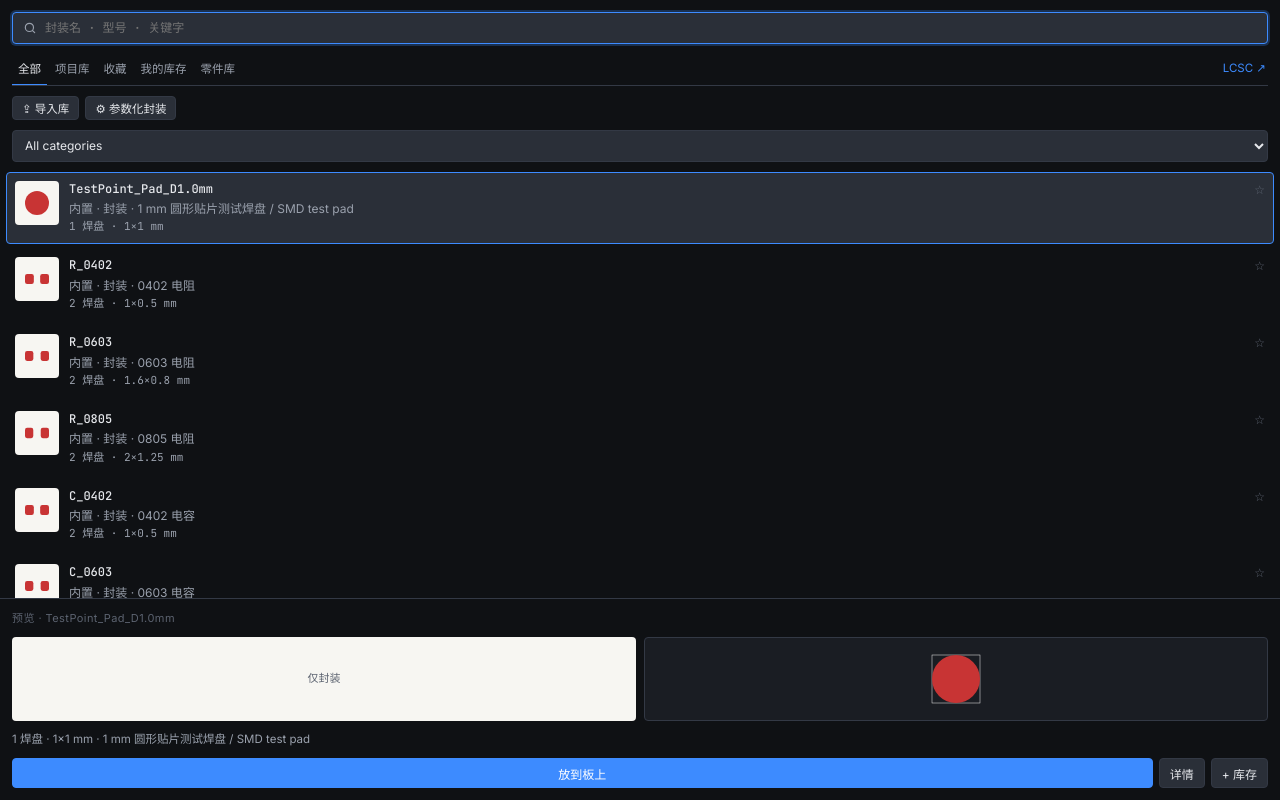
Test: pcb keeps categories in a collapsed picker and updates the part list on selection
Select "Capacitors" in the dropdown named "All categories". click: (640, 146)
box: [12,130,1268,162]
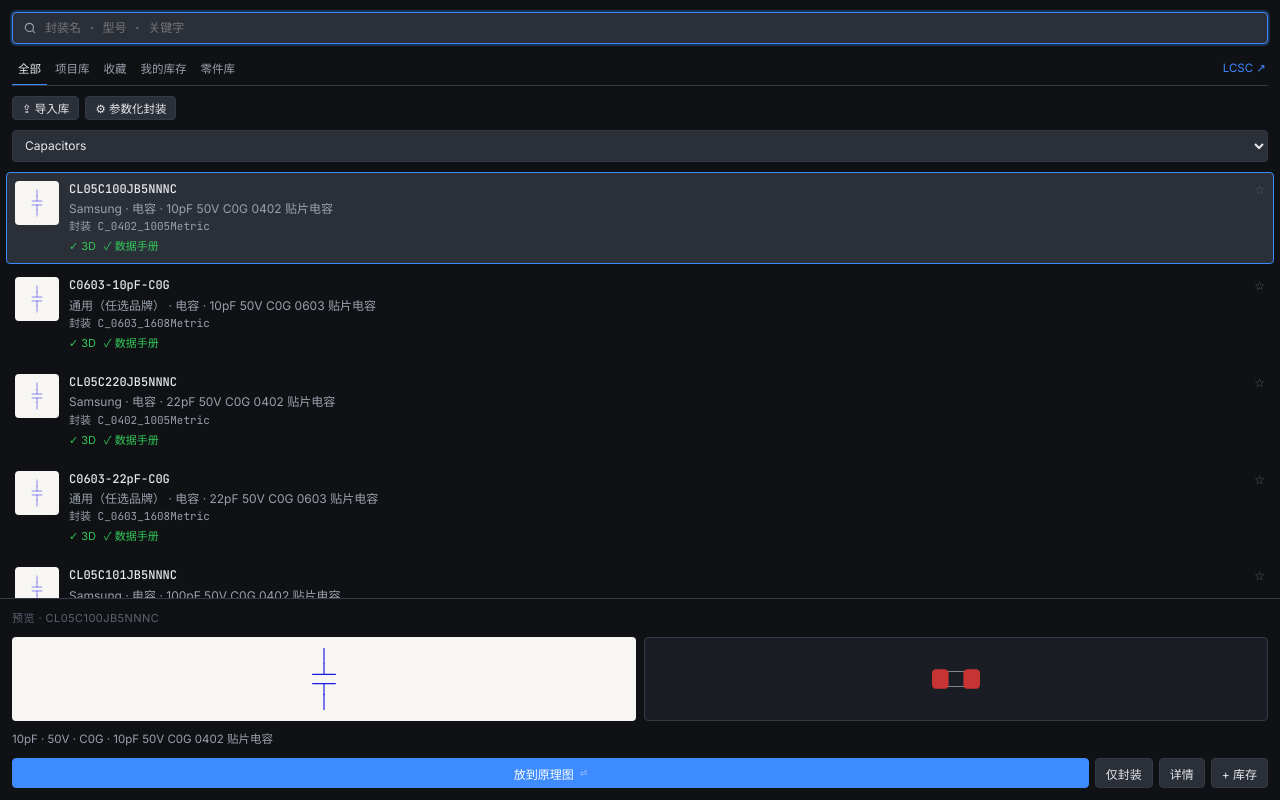
expect the text "0402WGF0000TCE" is not shown: met
expect the text "CL05C100JB5NNNC" is shown: met, box [69,181,177,198]
Select "All categories" in the dropdown named "All categories". click: (640, 146)
box: [12,130,1268,162]
(page scrolled)
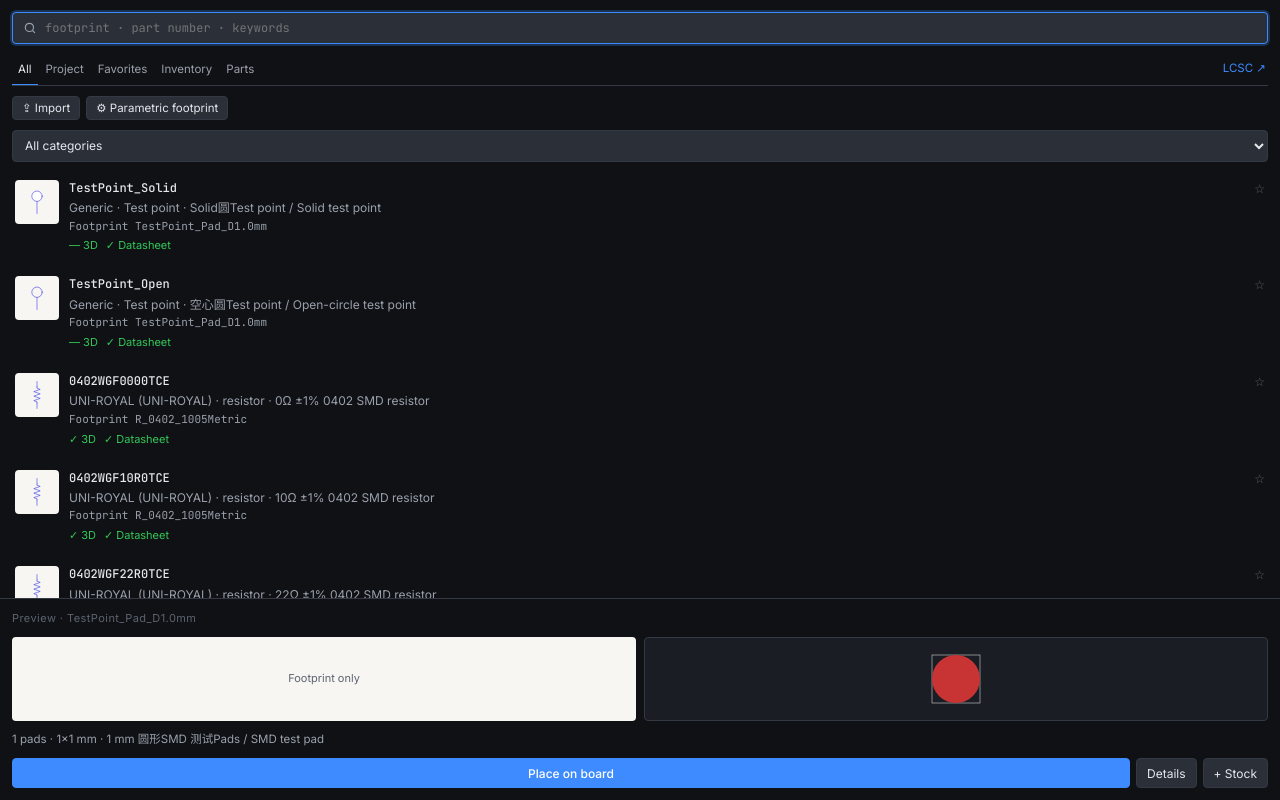
expect the text "0402WGF0000TCE" is shown: met, box [69,373,170,390]
